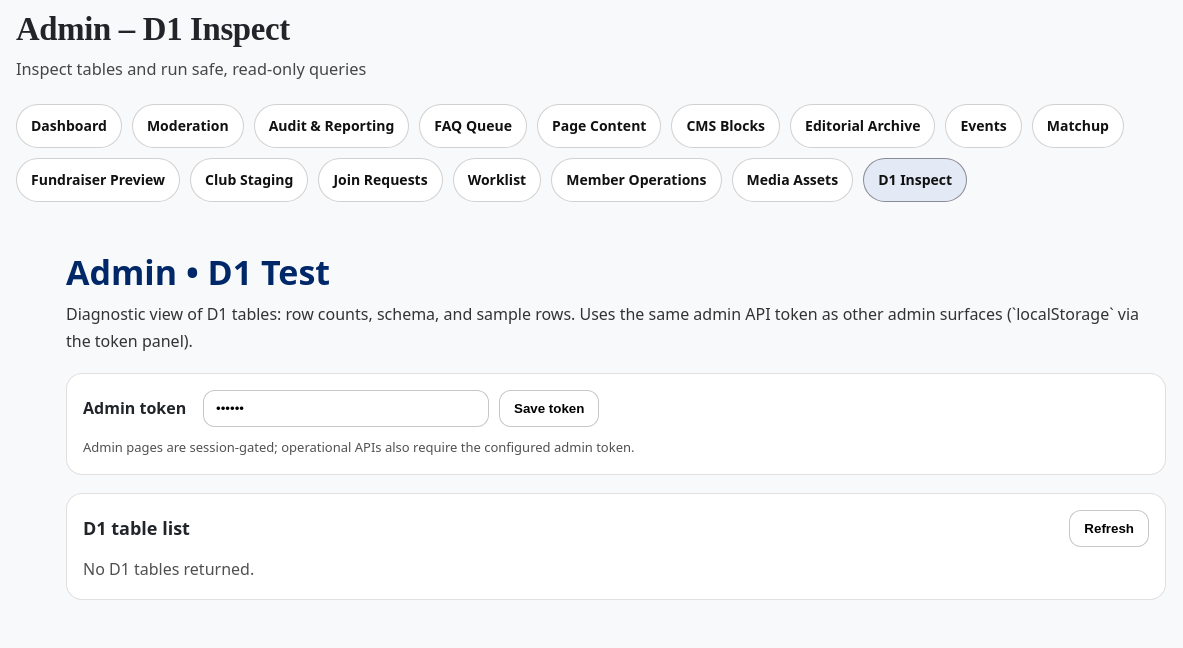
Test: admin d1 inspect page › restores token gating when the admin token is cleared
The width and height of the screenshot is (1183, 648).
Clear the password field labelled "Admin token". click: (346, 409)
box: [203,390,489,428]
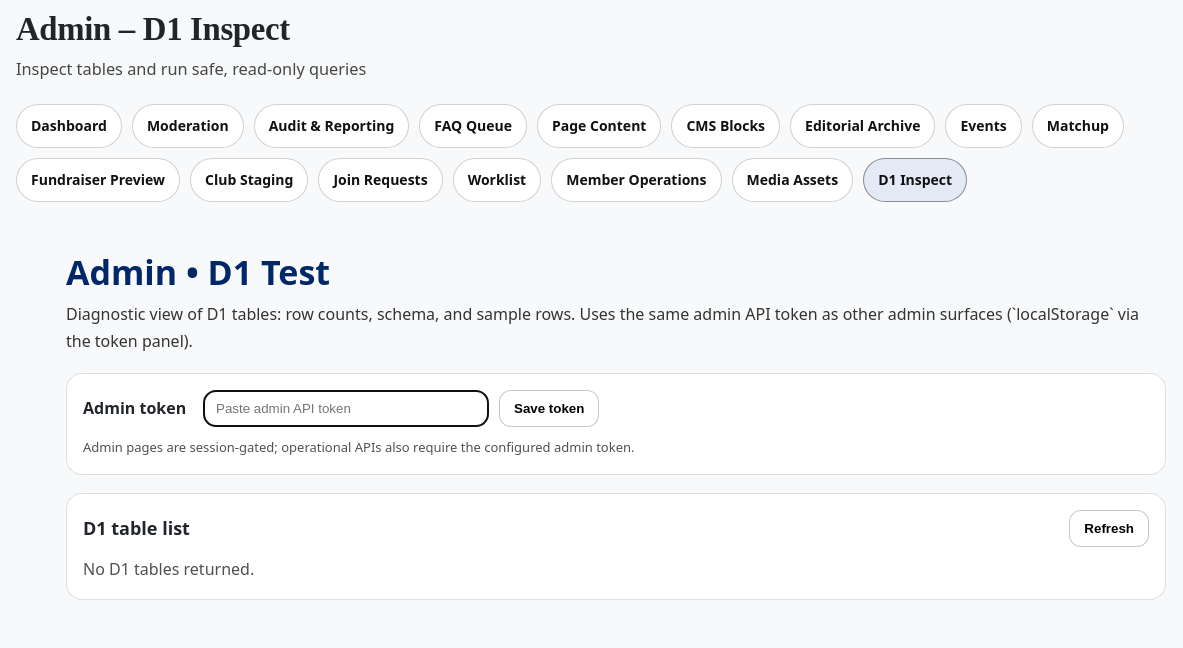
Click the button "Save token". click: (549, 409)
box: [499,390,599,428]
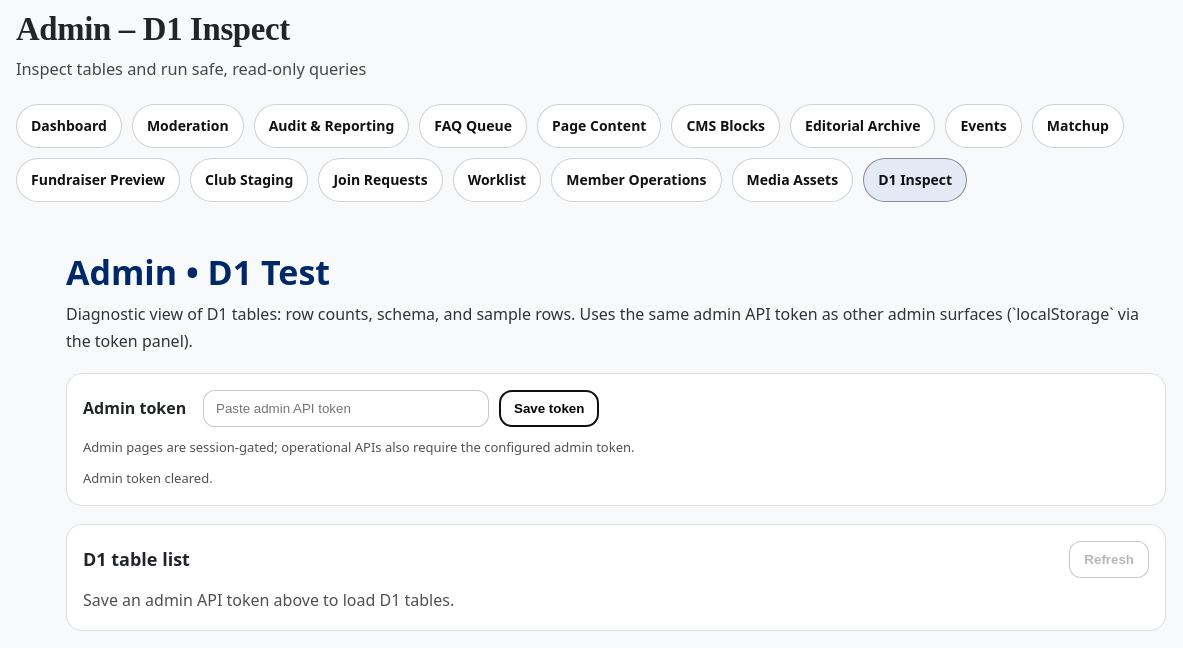
Expected: the text "Save an admin API token above to load D1 tables." is shown, [83,589,454,611]
